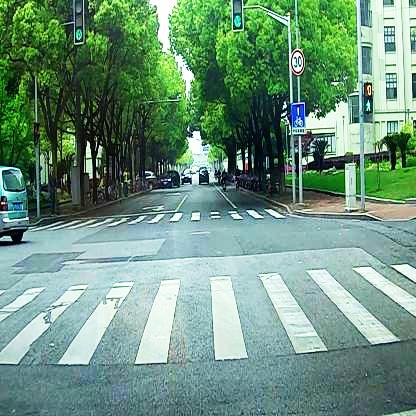Speed Limit -30-: (289, 48, 306, 72)
